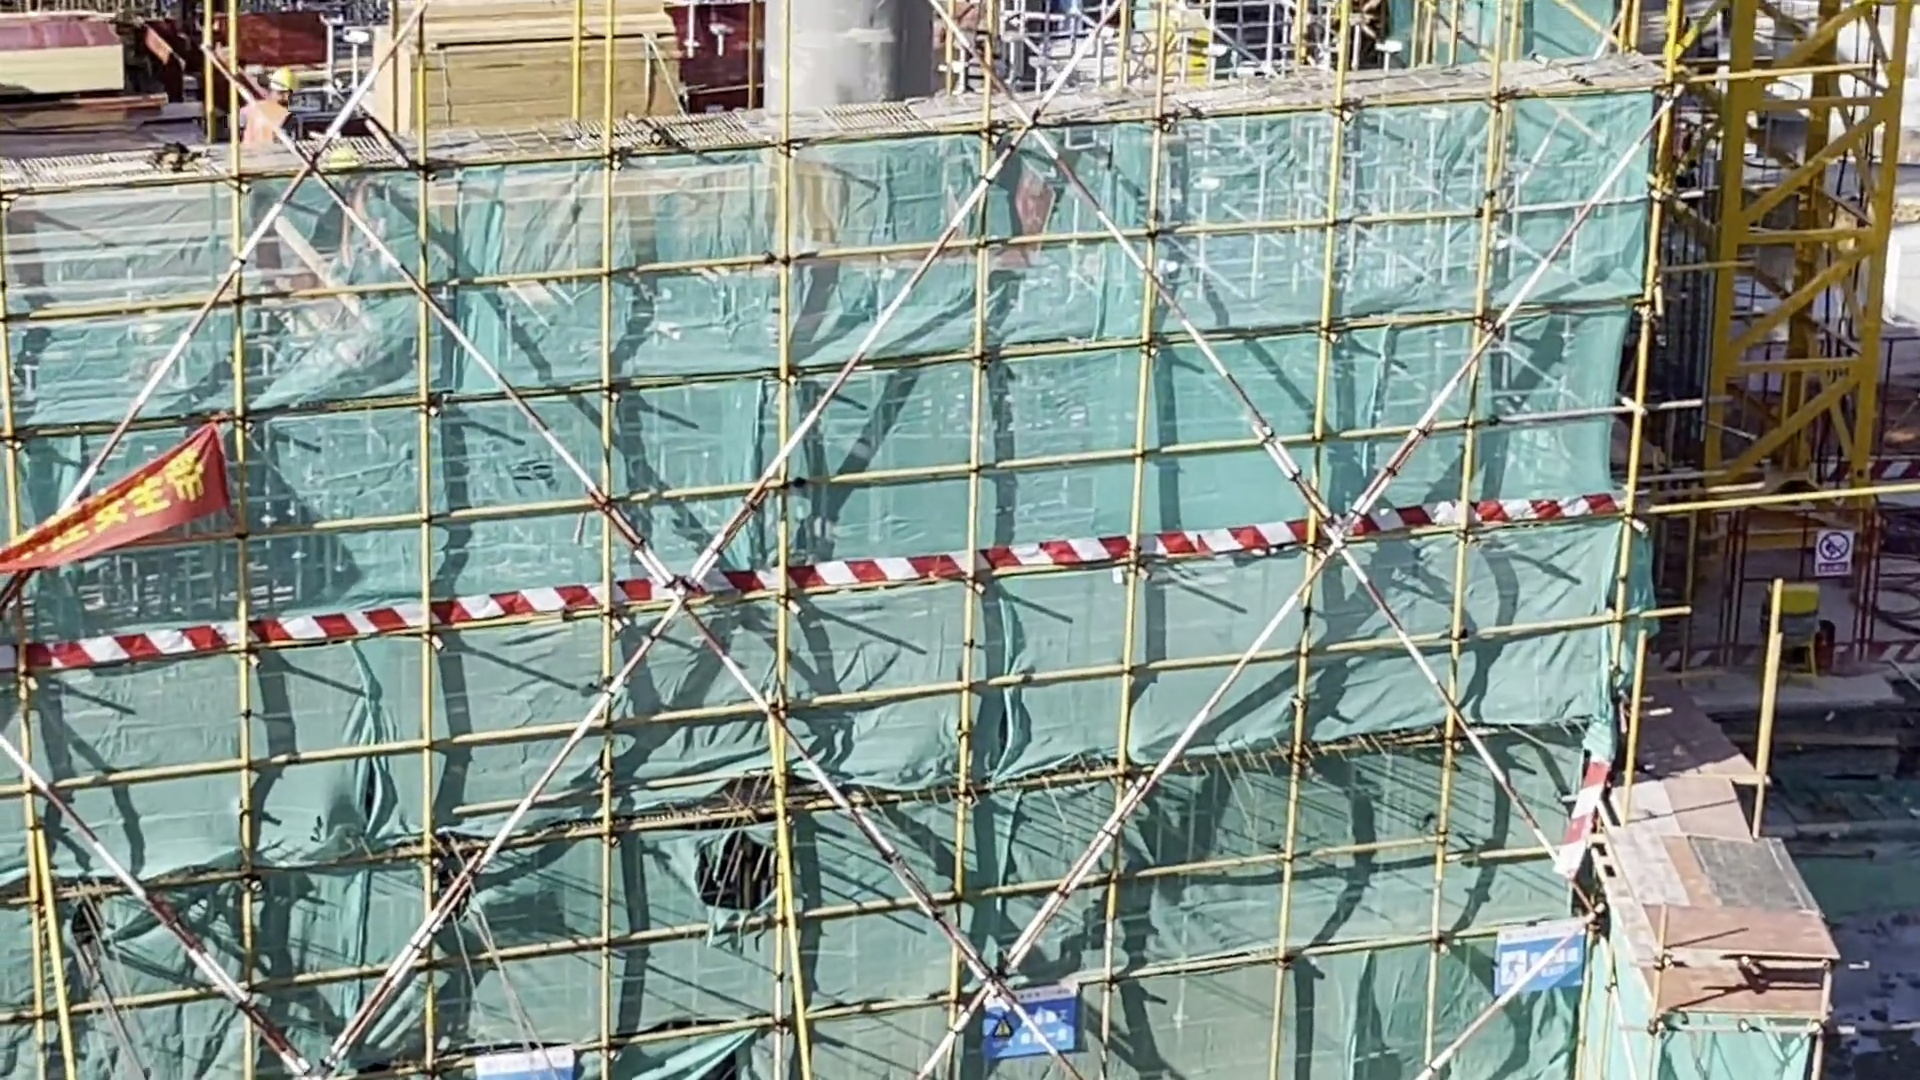person: (233, 58, 317, 154)
slogan: (1, 409, 252, 616), (1472, 910, 1607, 1027), (967, 975, 1089, 1068)
wood: (358, 8, 714, 131)
